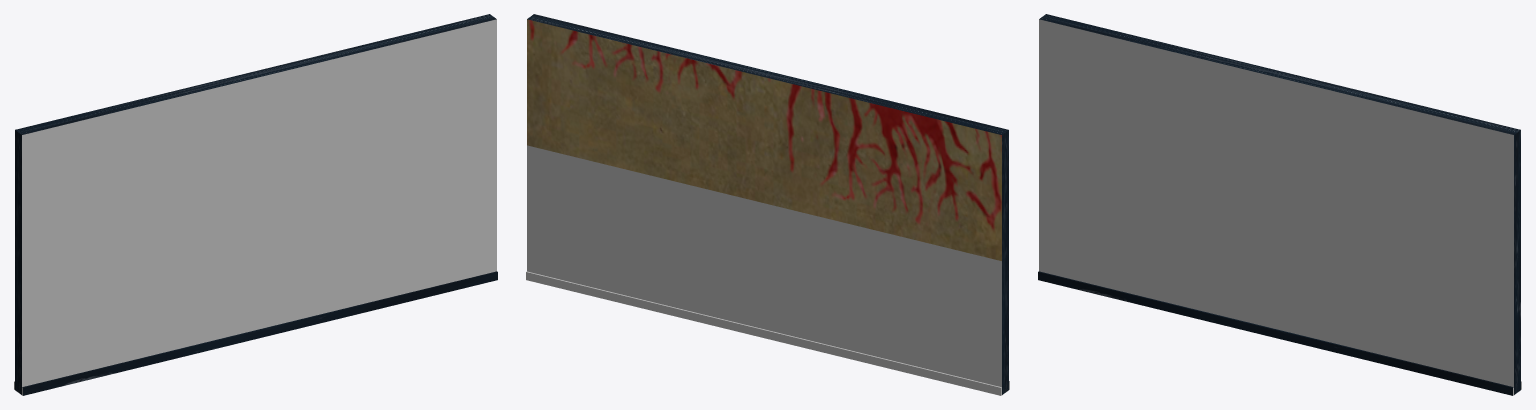
File: paredconcretocorregido 1.fbx
3 views of the same model, side by side, from view 1: azimuth 30°, elevation 25°; view 2: azimuth 150°, elevation 25°; view 3: azimuth 330°, elevation 25° (orthographic).
Parts seen in each view (by area): view 1: Cube.748; view 2: Cube.748; view 3: Cube.748.
Boxes of the visible parts, bbox=[...] form: Cube.748: bbox=[14, 14, 497, 395]; Cube.748: bbox=[526, 14, 1009, 395]; Cube.748: bbox=[1038, 14, 1521, 395].
Bounding box in the file's own units: 712 × 373 × 23.06.
